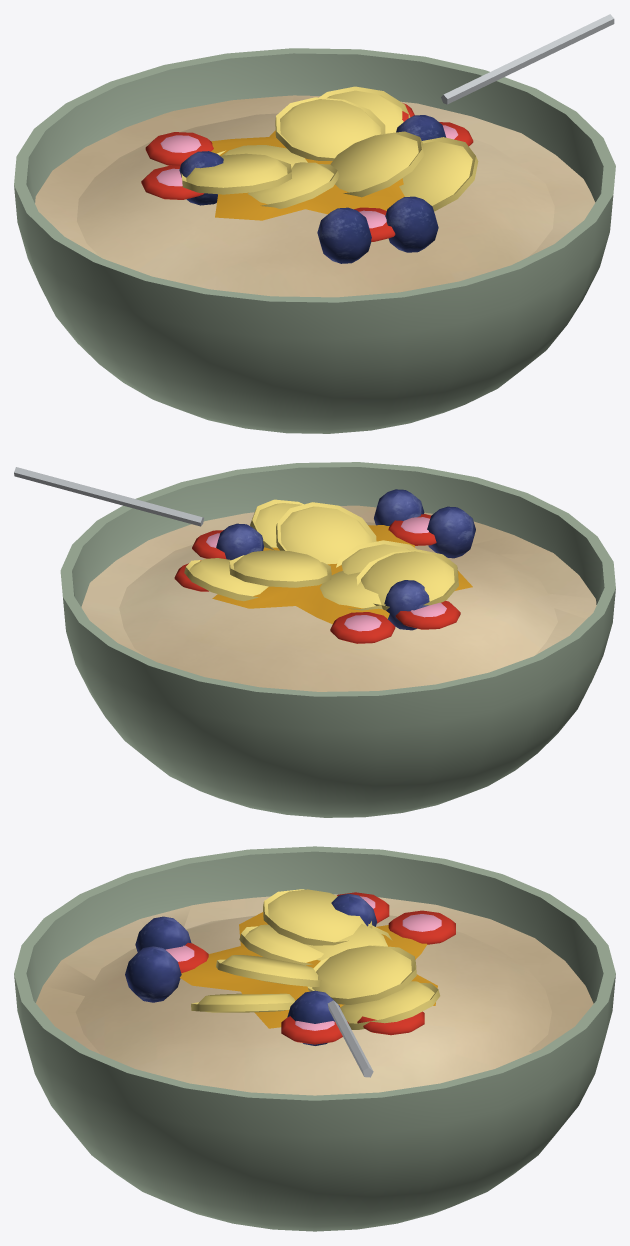
Rendered from meal_porridge_bowl.glb.
3 views of the same model, one above another, from view 1: azimuth 30°, elevation 25°; view 2: azimuth 150°, elevation 25°; view 3: azimuth 270°, elevation 25° (orthographic). The views are drawn at different scales.
Visible parts, largest first — view 1: meal_porridge_bowl; view 2: meal_porridge_bowl; view 3: meal_porridge_bowl.
Part boxes in pixels (x1=…): meal_porridge_bowl: x1=14, y1=14, x2=615, y2=433; meal_porridge_bowl: x1=14, y1=462, x2=615, y2=817; meal_porridge_bowl: x1=14, y1=846, x2=615, y2=1231.
Size of the model in its own units: 0.1903 by 0.0796 by 0.17.
Materials: 8 (2 with a texture image).
